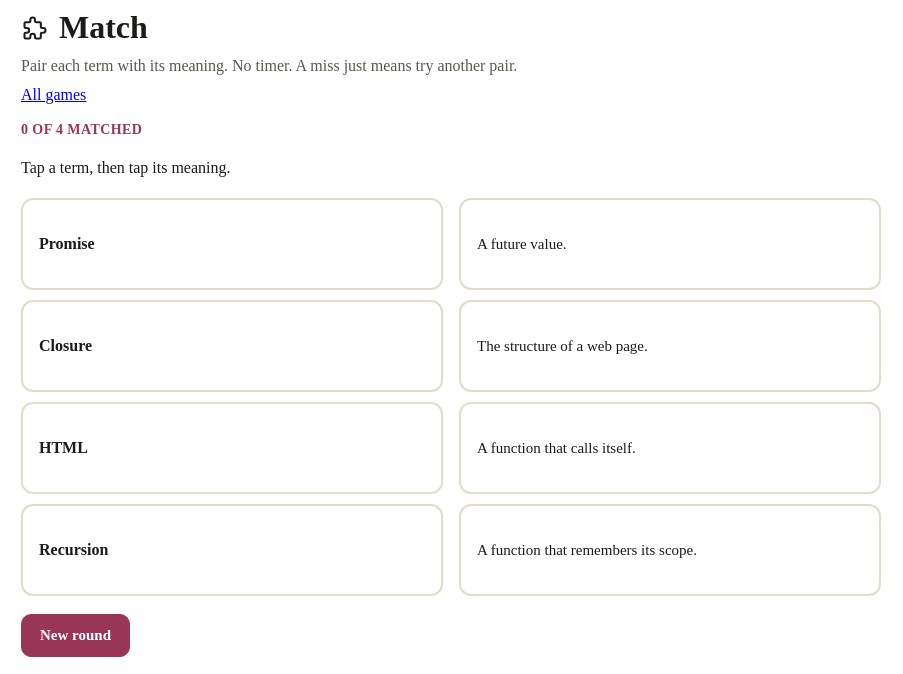
MatchPage › lets a wrong pair be tried again without locking the tiles
The image size is (903, 674).
Click the button with aria-label "Term: Recursion": (74, 550) x1=21 y1=504 x2=443 y2=596
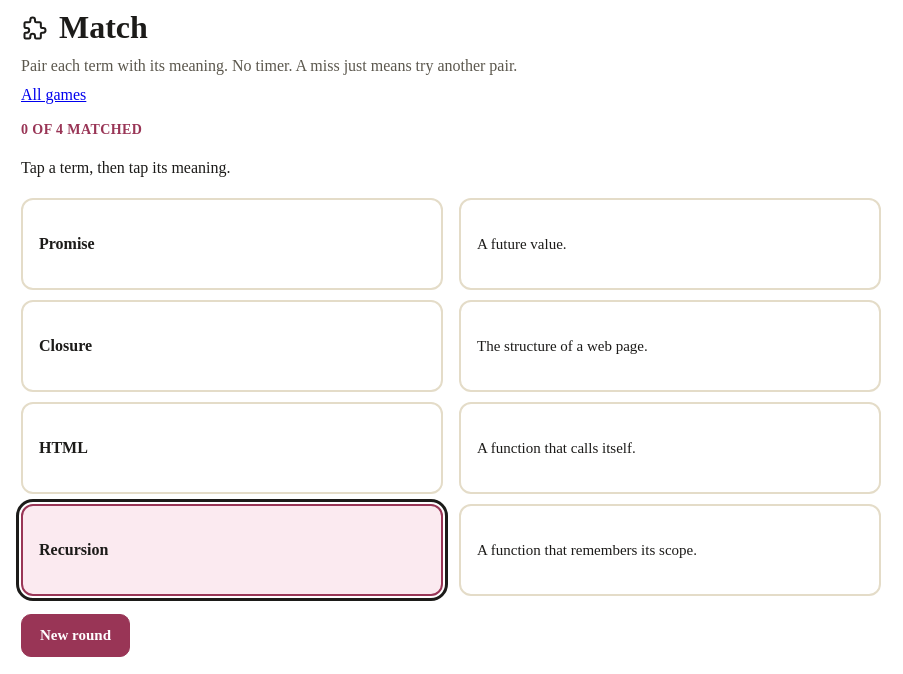
Click the button with aria-label "Meaning: A future value.": (522, 244) x1=459 y1=198 x2=881 y2=290
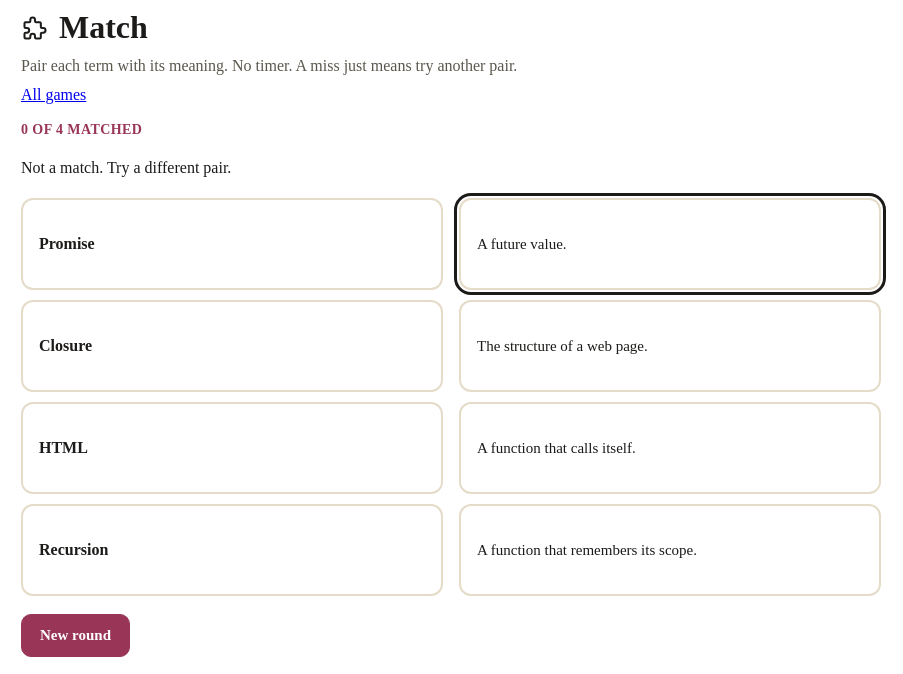
Expected: the button with aria-label "Term: Recursion" is enabled, x1=21 y1=504 x2=443 y2=596
Expected: the text "Not a match. Try a different pair." is shown, x1=21 y1=159 x2=231 y2=176
